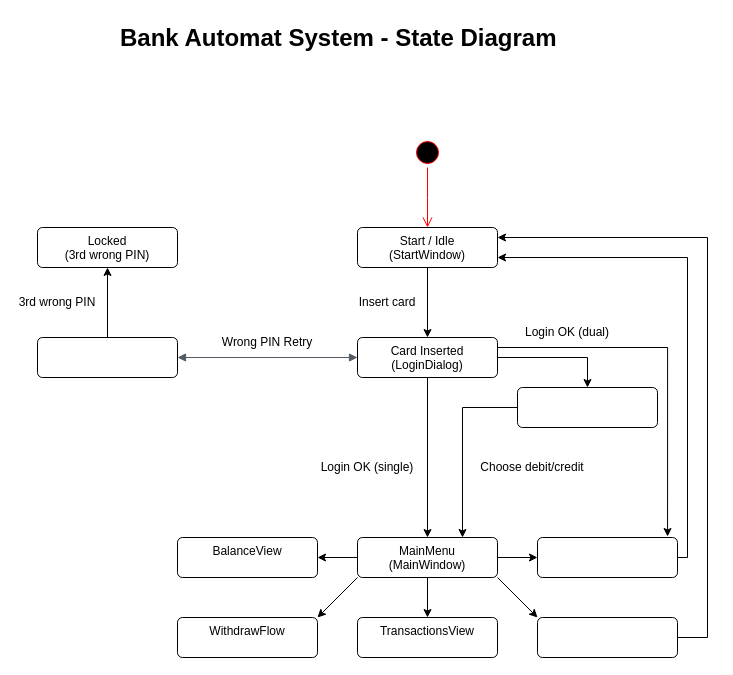
Some shapes in this 733 by 675 pixel diagram are drawn without their labels. Each missing label, with the centre of its shape:
"AccountSelect (dual-card only)" belongs at pixel 587 407.
"AuthFailed (1/3, 2/3)" belongs at pixel 107 357.
"Logout / Reset (back to StartWindow)" belongs at pixel 607 637.
"Timeout (PIN 10s / Inactivity 30s)" belongs at pixel 607 557.
